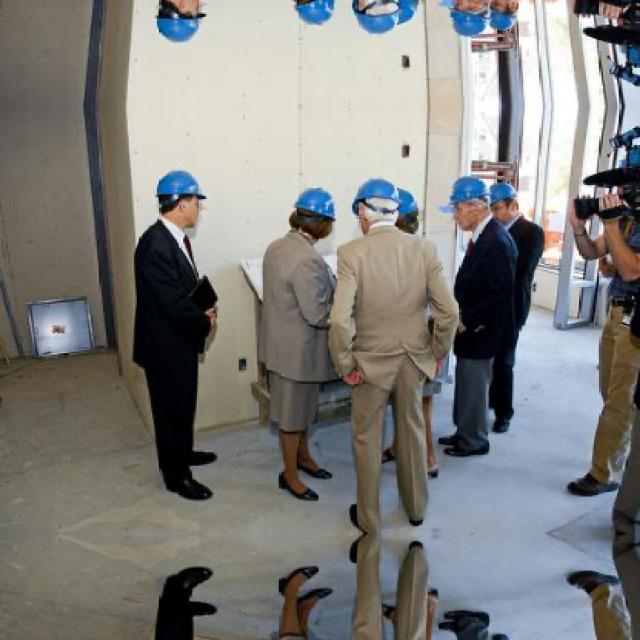con casco: (118, 152, 232, 238), (262, 164, 356, 266), (334, 166, 408, 238), (448, 139, 493, 251)
